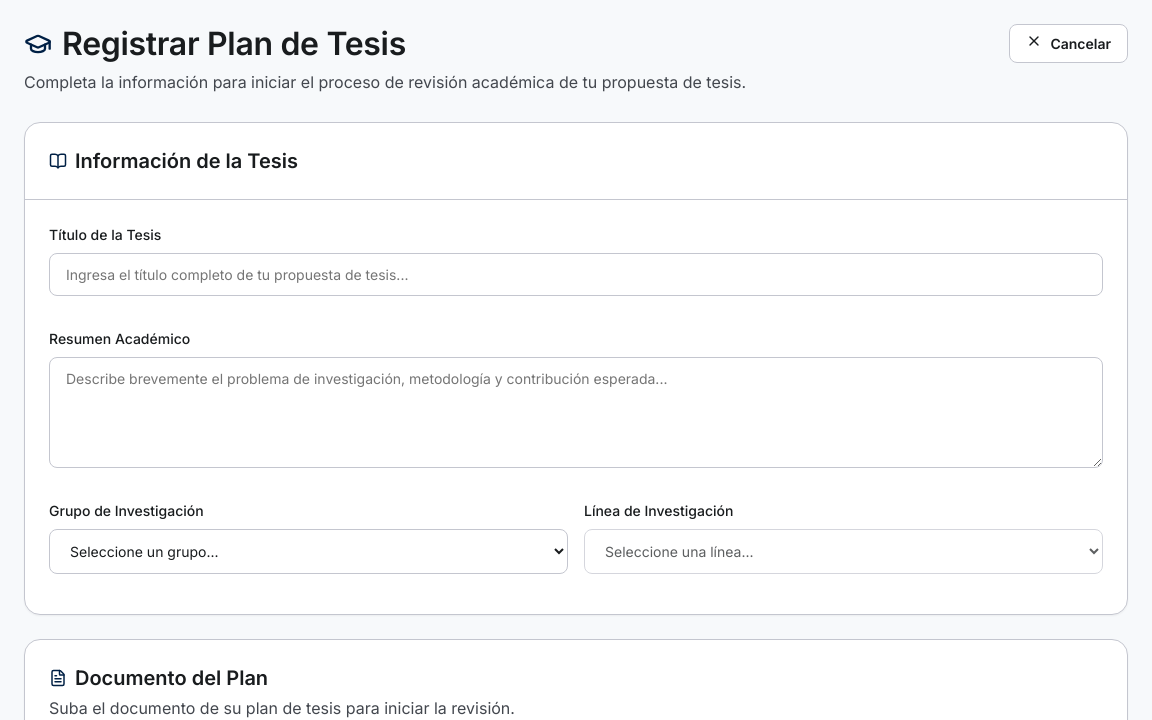
NewThesisPlan › line select becomes enabled after group selection
The image size is (1152, 720).
Select "GI-SOFT" in the dropdown labelled "Grupo de Investigación". click: coordinates (308, 552)
box: [49, 529, 568, 574]
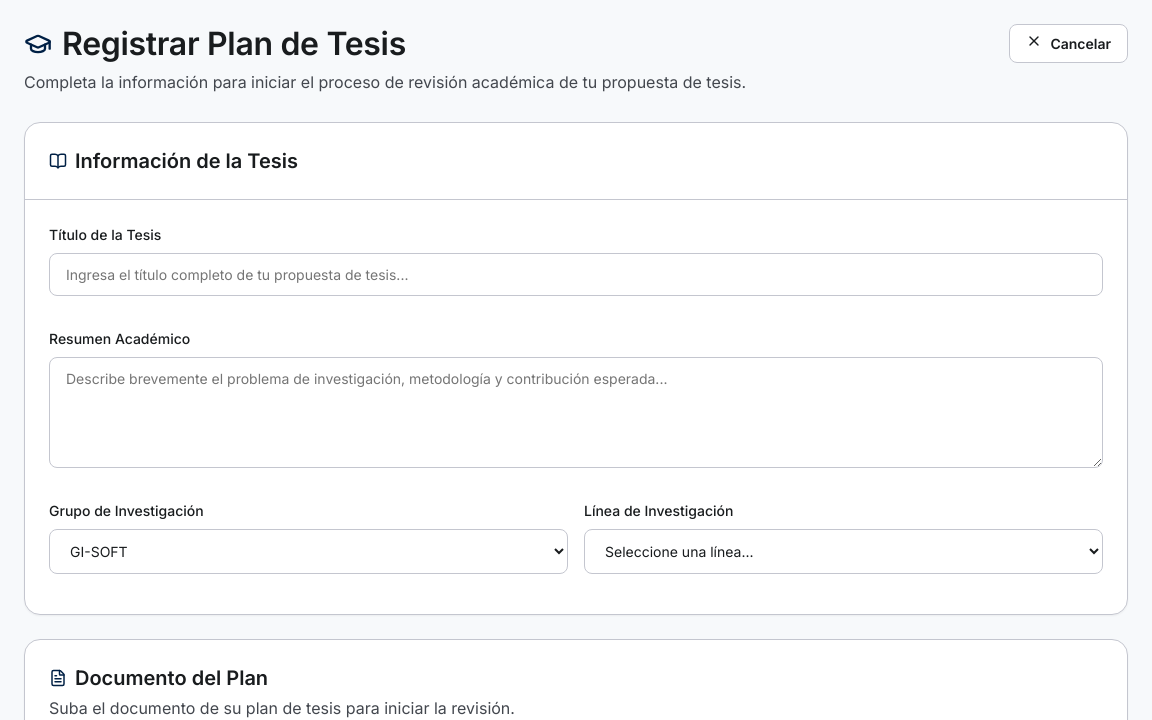
Now the dropdown labelled "Línea de Investigación" is enabled, box [584, 529, 1103, 574]
